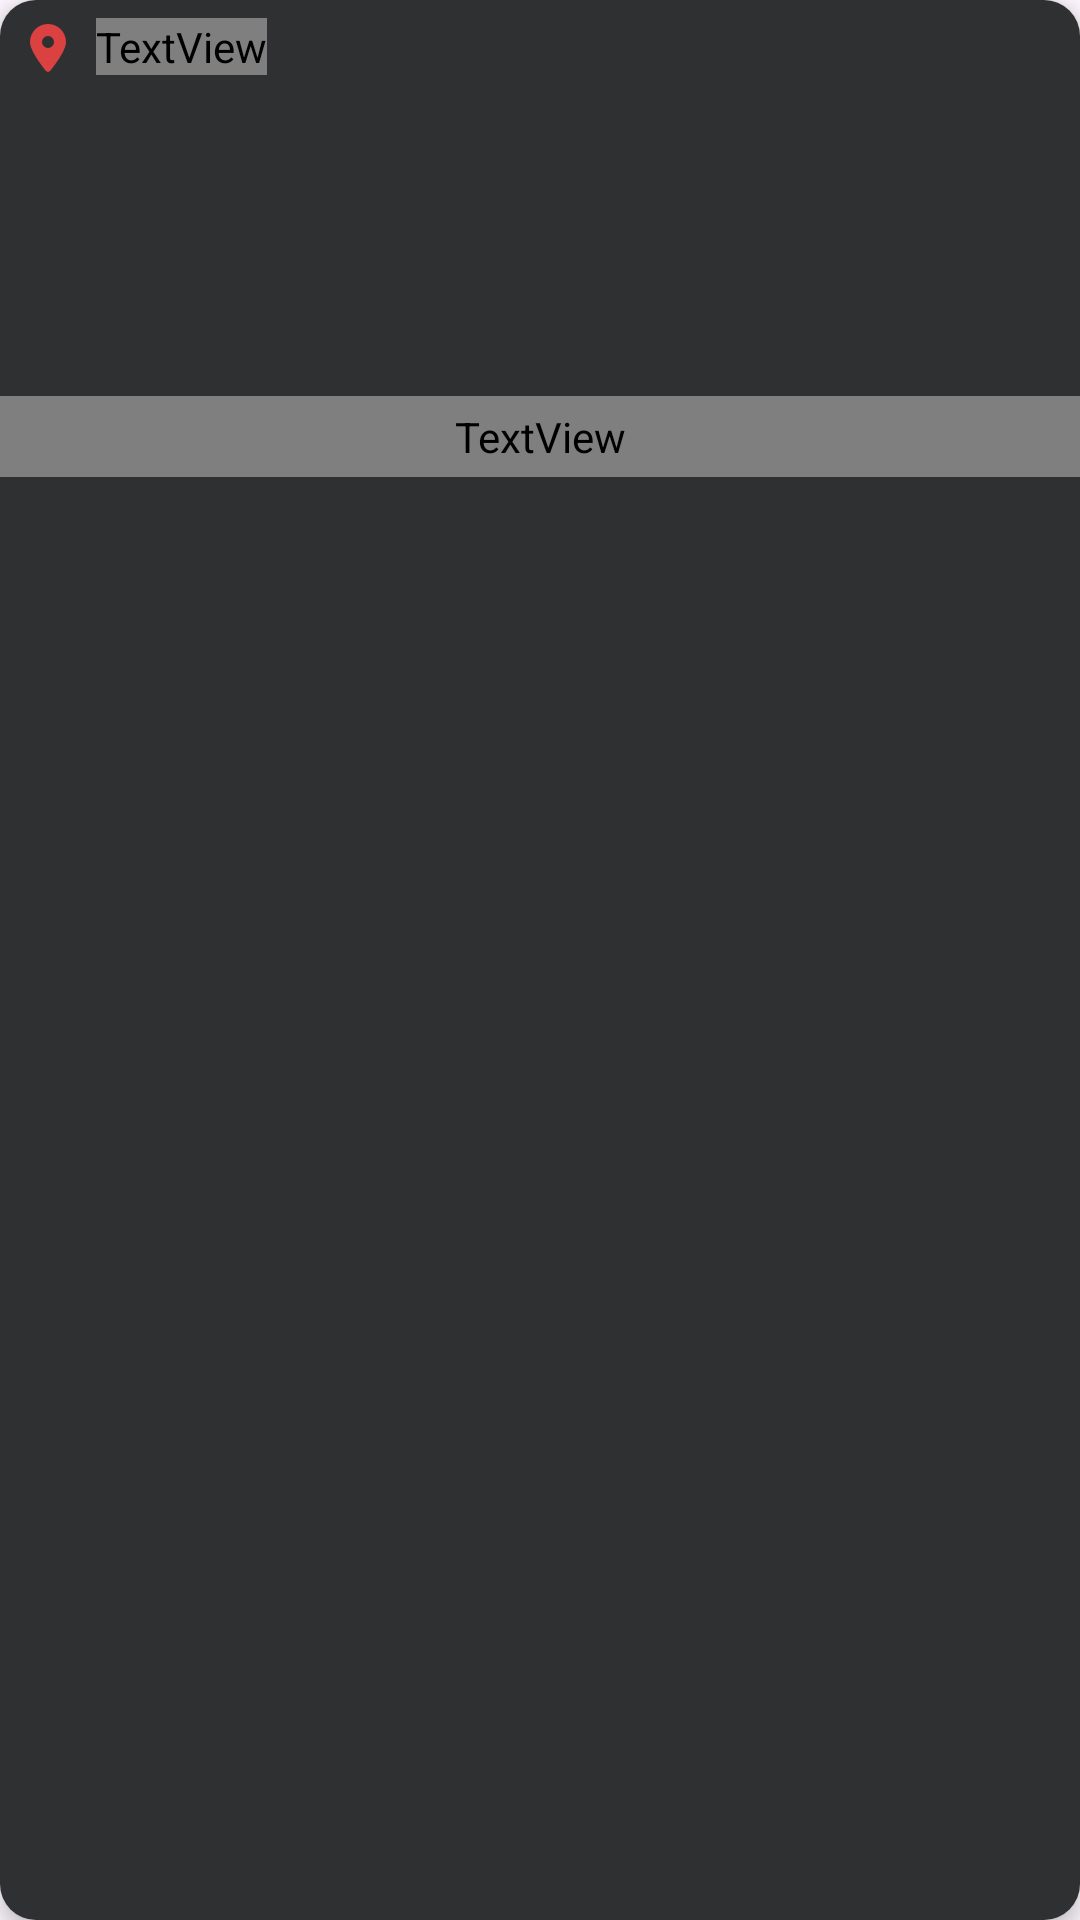

Icons on this 1080 x 1920 Android screen, each with its box as detection(x1, y1, x2, y2):
location dot: detection(30, 24, 66, 72)
